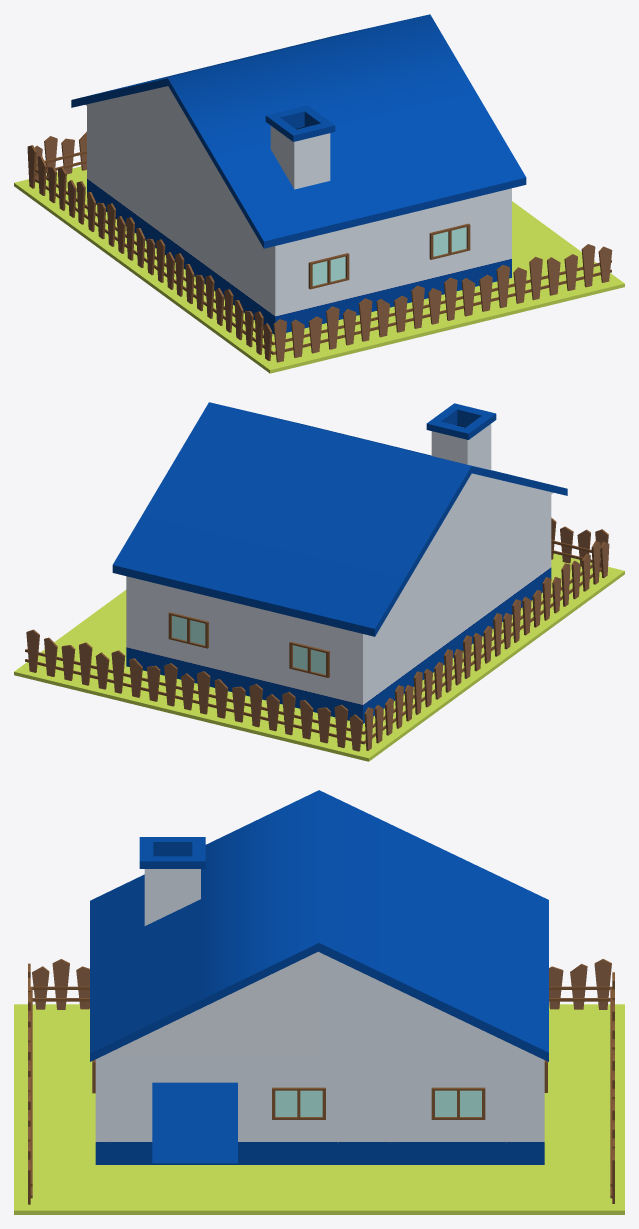
Rendered from PlayerHouse.fbx.
3 views of the same model, one above another, from view 1: azimuth 30°, elevation 25°; view 2: azimuth 150°, elevation 25°; view 3: azimuth 270°, elevation 25° (orthographic). The views are drawn at different scales.
Parts seen in each view (by area): view 1: PlayerHouseRoof, PlayerHouseBase, Grass2, FenceStraight83, FenceStraight82, FenceStraight89, FenceStraight87, FenceStraight88, FenceStraight86, FenceStraight85, FenceStraight84, pCube63 (+1 smaller); view 2: PlayerHouseRoof, PlayerHouseBase, Grass2, FenceStraight82, FenceStraight83, FenceStraight90, FenceStraight92, FenceStraight91, FenceStraight85, FenceStraight84, FenceStraight86, pCube64 (+1 smaller); view 3: PlayerHouseRoof, Grass2, PlayerHouseBase, FenceStraight82, FenceStraight83, pCube66, pCube67.
Part boxes in pixels (bbox=[...]): PlayerHouseRoof: bbox=[71, 14, 526, 248]; PlayerHouseBase: bbox=[87, 106, 511, 334]; Grass2: bbox=[14, 166, 624, 373]; FenceStraight83: bbox=[224, 289, 356, 362]; FenceStraight82: bbox=[27, 131, 86, 217]; FenceStraight89: bbox=[526, 244, 612, 300]; FenceStraight87: bbox=[356, 285, 441, 341]; FenceStraight88: bbox=[441, 265, 526, 320]; FenceStraight86: bbox=[175, 253, 225, 325]; FenceStraight85: bbox=[126, 217, 175, 289]; FenceStraight84: bbox=[76, 181, 126, 253]; pCube63: bbox=[308, 253, 349, 289]; PlayerHouseRoof: bbox=[112, 402, 567, 636]; PlayerHouseBase: bbox=[126, 495, 551, 723]; Grass2: bbox=[14, 553, 624, 761]; FenceStraight82: bbox=[281, 685, 413, 751]; FenceStraight83: bbox=[551, 517, 609, 606]; FenceStraight90: bbox=[195, 671, 281, 731]; FenceStraight92: bbox=[25, 629, 110, 689]; FenceStraight91: bbox=[110, 650, 195, 710]; FenceStraight85: bbox=[461, 613, 511, 678]; FenceStraight84: bbox=[412, 649, 462, 714]; FenceStraight86: bbox=[511, 577, 561, 642]; pCube64: bbox=[289, 641, 329, 677]; PlayerHouseRoof: bbox=[90, 790, 548, 1061]; Grass2: bbox=[14, 1004, 624, 1214]; PlayerHouseBase: bbox=[95, 1055, 544, 1164]; FenceStraight82: bbox=[549, 959, 614, 1034]; FenceStraight83: bbox=[28, 959, 89, 1034]; pCube66: bbox=[431, 1087, 485, 1119]; pCube67: bbox=[272, 1087, 325, 1119].
Bounding box in the file's own units: 45 × 23.69 × 56.25.
Materials: 4 (4 with a texture image).
